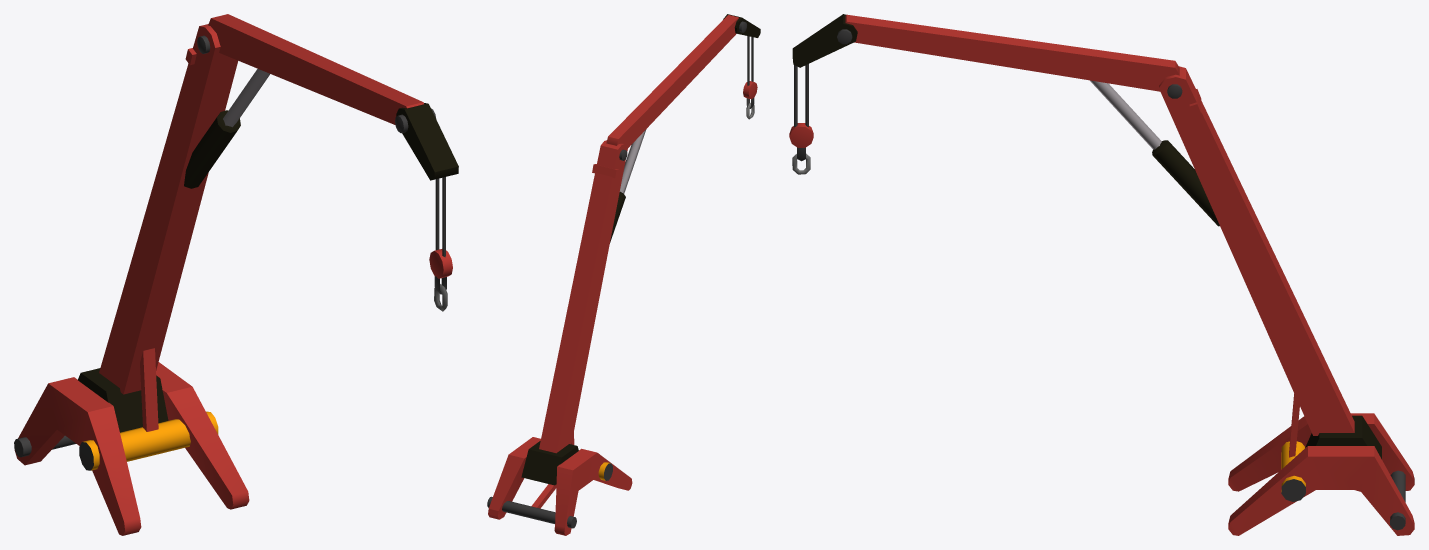
Rendered from crane1.fbx.
3 renders of one model, left to right at view 1: azimuth 30°, elevation 25°; view 2: azimuth 150°, elevation 25°; view 3: azimuth 270°, elevation 25°, orthographic. The views are drawn at different scales.
Parts seen in each view (by area): view 1: crane1; view 2: crane1; view 3: crane1.
Part boxes in pixels (x1,y1,x2,y2): crane1: (14,14,458,535); crane1: (487,14,760,535); crane1: (789,14,1414,535).
Bounding box in the file's own units: 366 × 1500 × 1725.
